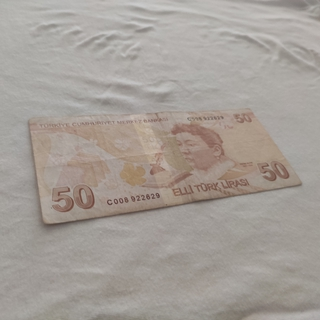50TLBack: (26, 106, 302, 225)
